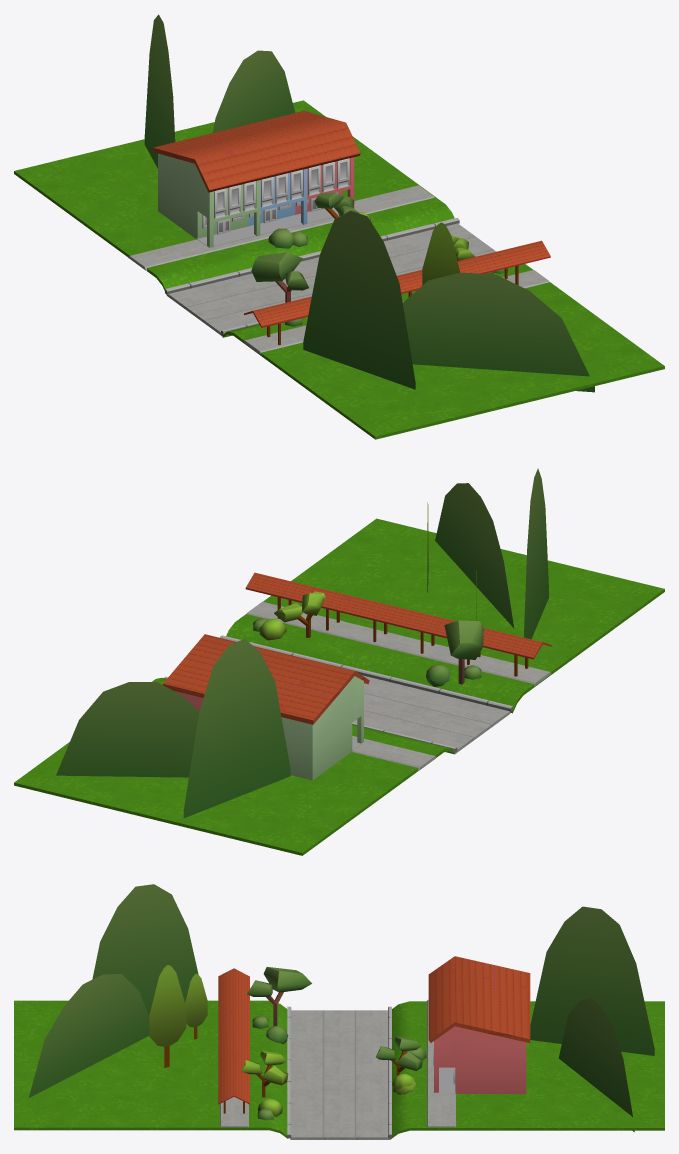
File: Level 2 Chunk 1 V2.fbx
3 renders of one model, top to bottom at view 1: azimuth 30°, elevation 25°; view 2: azimuth 150°, elevation 25°; view 3: azimuth 270°, elevation 25°, orthographic. The views are drawn at different scales.
Visible parts, largest first — view 1: Triple_shop_houses25, pCube15696, pCube15703, pasted__pasted__pCube5623, pasted__pCube5741, pCube15710, pasted__pasted__pCube5619, pCube15834, pasted__pCube5739, pCube15745, polySurface997, Tall_round_pine_tree12 (+3 smaller); view 2: pCube15696, pCube15703, pasted__pCube5739, Triple_shop_houses25, pasted__pasted__pCube5619, pCube15710, pasted__pasted__pCube5623, pCube15834, pCube15826, pasted__pCube5741, polySurface997, pCube15712 (+2 smaller); view 3: pCube15696, pCube15703, Triple_shop_houses25, pCube15710, pasted__pCube5739, pasted__pasted__pCube5623, pasted__pCube5741, pasted__pasted__pCube5619, pCube15834, Tall_round_pine_tree12, pCube15745, polySurface997 (+6 smaller).
Part boxes in pixels (bbox=[...]): Triple_shop_houses25: bbox=[153, 111, 360, 247]; pCube15696: bbox=[222, 264, 664, 439]; pCube15703: bbox=[14, 100, 454, 295]; pasted__pasted__pCube5623: bbox=[402, 272, 594, 392]; pasted__pCube5741: bbox=[303, 210, 415, 389]; pCube15710: bbox=[167, 223, 495, 336]; pasted__pasted__pCube5619: bbox=[213, 50, 295, 132]; pCube15834: bbox=[244, 240, 550, 327]; pasted__pCube5739: bbox=[144, 14, 175, 168]; pCube15745: bbox=[128, 185, 434, 270]; polySurface997: bbox=[251, 252, 308, 302]; Tall_round_pine_tree12: bbox=[422, 222, 459, 285]; pCube15696: bbox=[226, 518, 664, 713]; pCube15703: bbox=[14, 678, 454, 855]; pasted__pCube5739: bbox=[183, 638, 290, 818]; Triple_shop_houses25: bbox=[163, 634, 369, 780]; pasted__pasted__pCube5619: bbox=[56, 682, 199, 777]; pCube15710: bbox=[353, 675, 510, 753]; pasted__pasted__pCube5623: bbox=[435, 483, 514, 628]; pCube15834: bbox=[245, 572, 551, 659]; pCube15826: bbox=[247, 601, 551, 686]; pasted__pCube5741: bbox=[523, 468, 548, 657]; polySurface997: bbox=[444, 620, 483, 684]; pCube15712: bbox=[220, 635, 512, 711]; pCube15696: bbox=[14, 1000, 288, 1138]; pCube15703: bbox=[390, 1001, 664, 1139]; Triple_shop_houses25: bbox=[428, 956, 530, 1093]; pCube15710: bbox=[290, 1010, 390, 1139]; pasted__pCube5739: bbox=[530, 906, 654, 1055]; pasted__pasted__pCube5623: bbox=[28, 974, 149, 1097]; pasted__pCube5741: bbox=[92, 884, 198, 1015]; pasted__pasted__pCube5619: bbox=[558, 998, 634, 1131]; pCube15834: bbox=[218, 968, 249, 1104]; Tall_round_pine_tree12: bbox=[149, 965, 186, 1067]; pCube15745: bbox=[427, 999, 455, 1127]; polySurface997: bbox=[247, 967, 311, 1026].
Bounding box in the file's own units: 12.37 × 6.94 × 26.56.
Materials: 2 (2 with a texture image).
